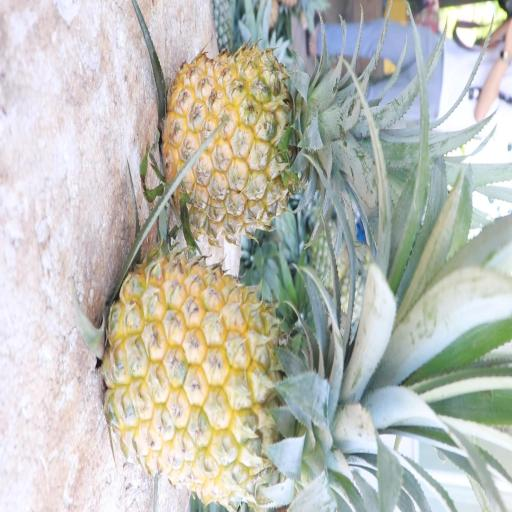Pineapple - v8 v1: (97, 242, 388, 507), (160, 39, 364, 255), (216, 154, 226, 158), (223, 112, 232, 112)
